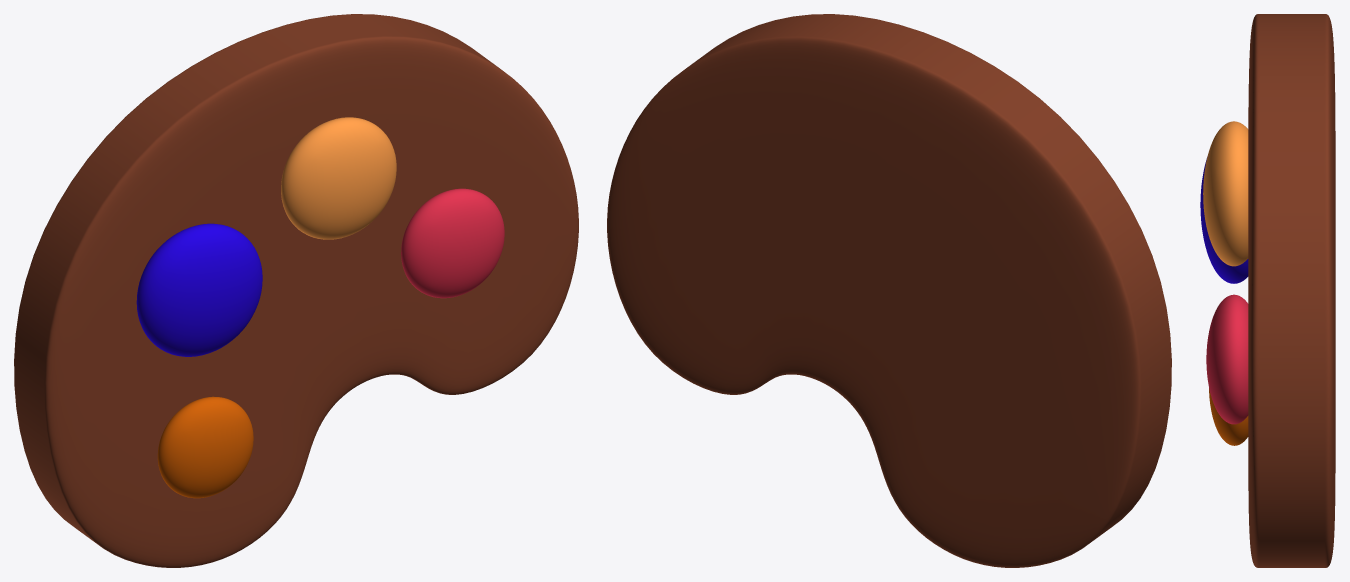
File: colour-palette.glb
The picture shows the model from 3 angles, left to right: view 1: azimuth 30°, elevation 25°; view 2: azimuth 150°, elevation 25°; view 3: azimuth 270°, elevation 25°; orthographic projection. The views are drawn at different scales.
Visible parts, largest first — view 1: Cube.004; view 2: Cube.004; view 3: Cube.004.
Part boxes in pixels (<box>): Cube.004: <box>14,14,578,567</box>; Cube.004: <box>607,14,1171,567</box>; Cube.004: <box>1200,14,1335,567</box>.
Bounding box in the file's own units: 1.93 × 1.7 × 0.38.
